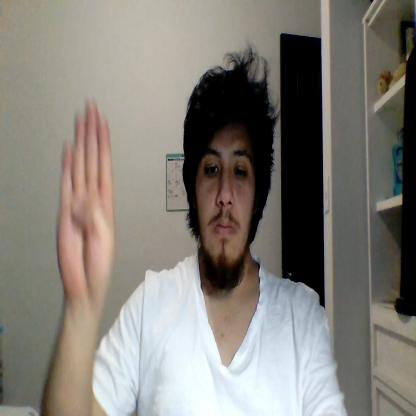B: (56, 100, 114, 304)
